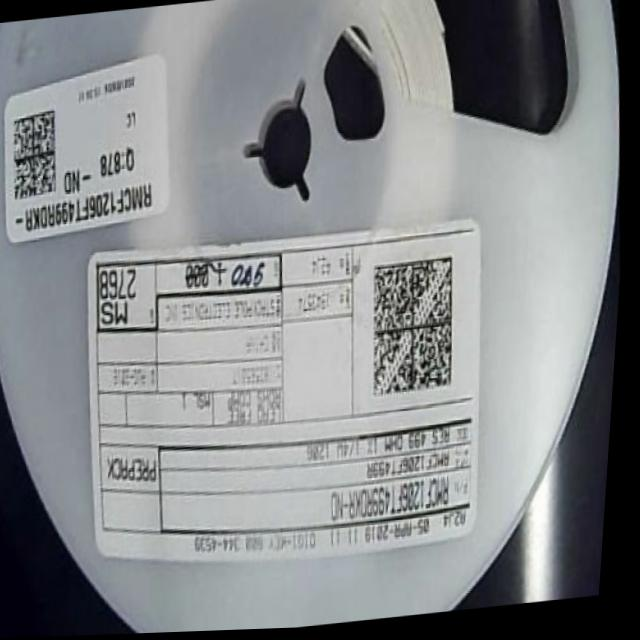datamatrix: (364, 257, 466, 401), (7, 107, 65, 204)
